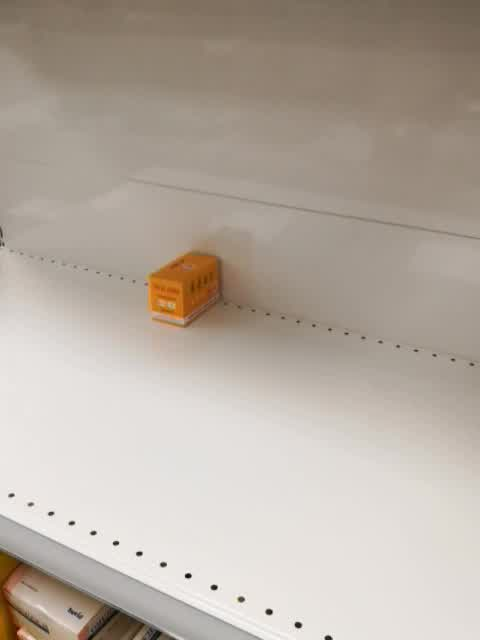jasminetea: (147, 249, 222, 328)
